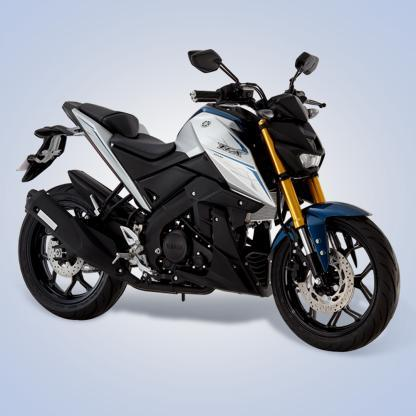Motorcycle: (7, 40, 403, 352)
